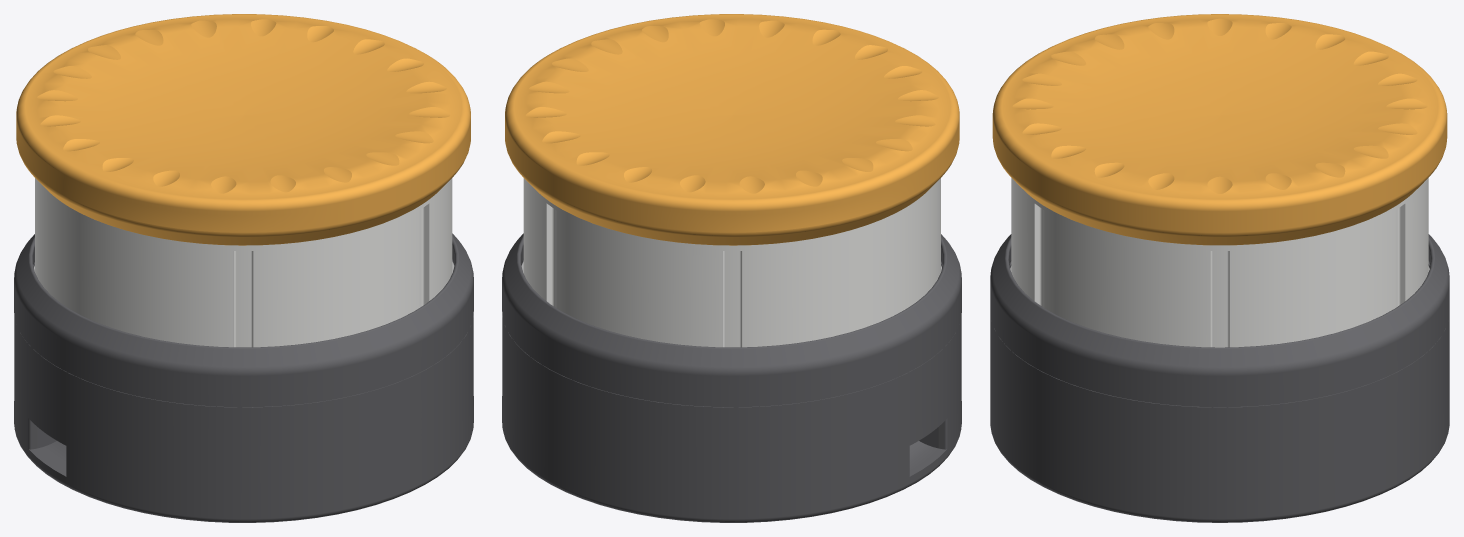
The model's file is combined.glb.
3 views of the same model, side by side, from view 1: azimuth 30°, elevation 25°; view 2: azimuth 150°, elevation 25°; view 3: azimuth 270°, elevation 25° (orthographic).
Parts seen in each view (by area): view 1: cap, base, chamber, ring; view 2: cap, base, chamber, ring; view 3: cap, base, chamber, ring.
Boxes of the visible parts, bbox=[...] form: cap: bbox=[16, 14, 470, 245]; base: bbox=[14, 260, 473, 522]; chamber: bbox=[35, 178, 452, 347]; ring: bbox=[14, 233, 473, 407]; cap: bbox=[505, 14, 959, 245]; base: bbox=[502, 260, 961, 522]; chamber: bbox=[523, 178, 940, 347]; ring: bbox=[502, 233, 961, 407]; cap: bbox=[992, 14, 1447, 245]; base: bbox=[990, 261, 1449, 522]; chamber: bbox=[1011, 178, 1428, 347]; ring: bbox=[990, 234, 1449, 407].
Size of the model in its own units: 0.1003 by 0.078 by 0.1003.
